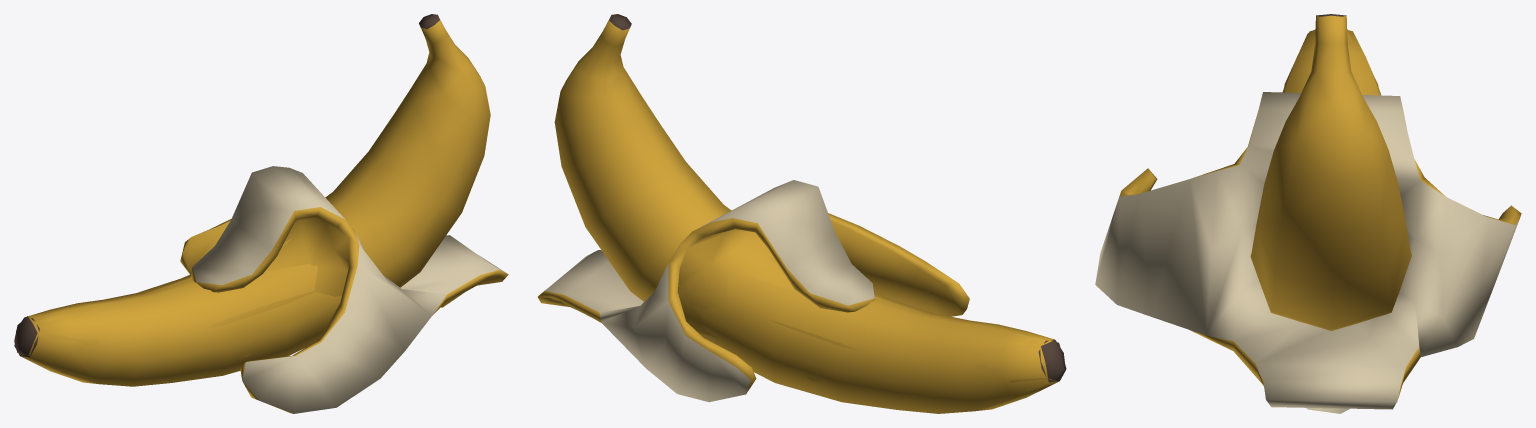
Rendered from banana.fbx.
The picture shows the model from 3 angles, left to right: view 1: azimuth 30°, elevation 25°; view 2: azimuth 150°, elevation 25°; view 3: azimuth 270°, elevation 25°; orthographic projection. The views are drawn at different scales.
Parts seen in each view (by area): view 1: banana_unpeeled, Cube.001; view 2: banana_unpeeled, Cube.001; view 3: Cube.001, banana_unpeeled.
Part boxes in pixels (left/top/right/bottom): banana_unpeeled: left=14, top=14, right=490, bottom=386; Cube.001: left=14, top=166, right=508, bottom=413; banana_unpeeled: left=554, top=14, right=1065, bottom=413; Cube.001: left=537, top=180, right=1066, bottom=402; Cube.001: left=1095, top=29, right=1521, bottom=413; banana_unpeeled: left=1250, top=14, right=1411, bottom=330.
Bounding box in the file's own units: 872 × 537 × 497.
